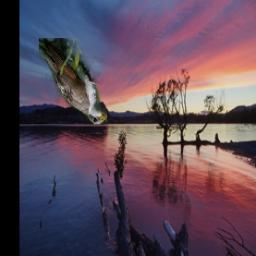Cuckoo: (39, 39, 107, 125)
